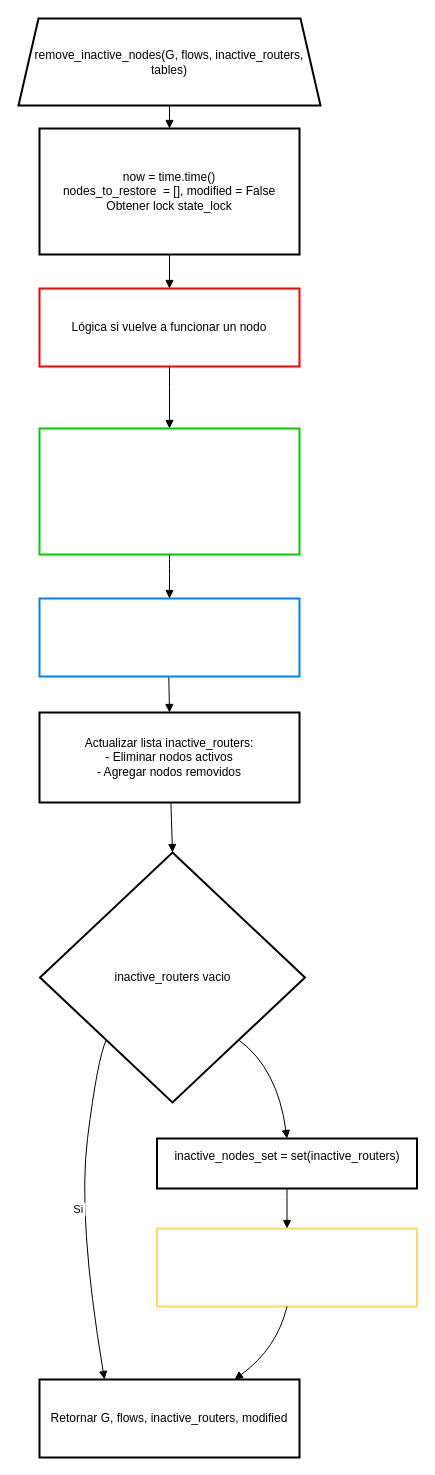
Some shapes in this 435 by 1475 pixel diagram are drawn without their labels. Each missing label, with the centre of its shape:
"Lógica para nodo caido" belongs at pixel 169 637.
"lóogica para comprobar flujos" belongs at pixel 287 1267.
"Para cada r en nodes_to_restore inactive_routers.remove r modified = True" belongs at pixel 169 491.
